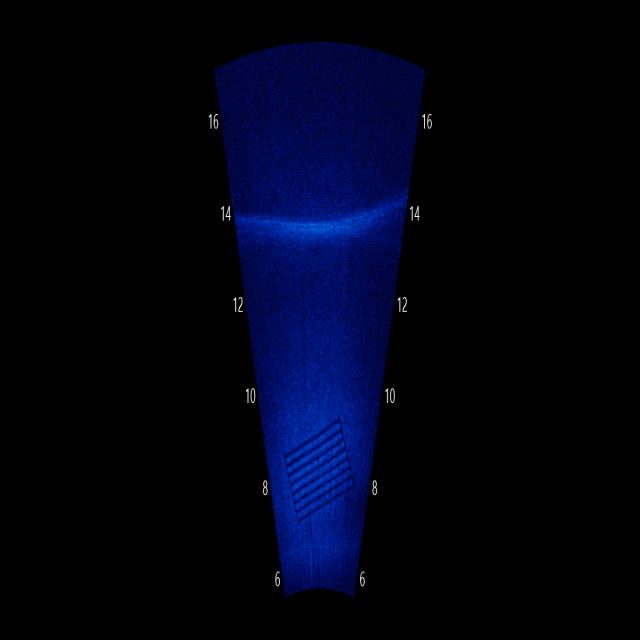square: (279, 408, 359, 537)
